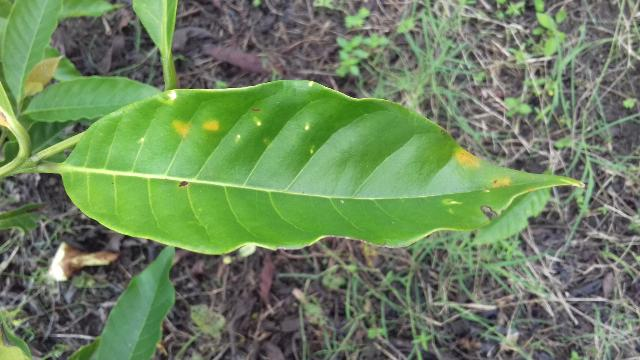rust_level_1: (40, 75, 590, 257)
